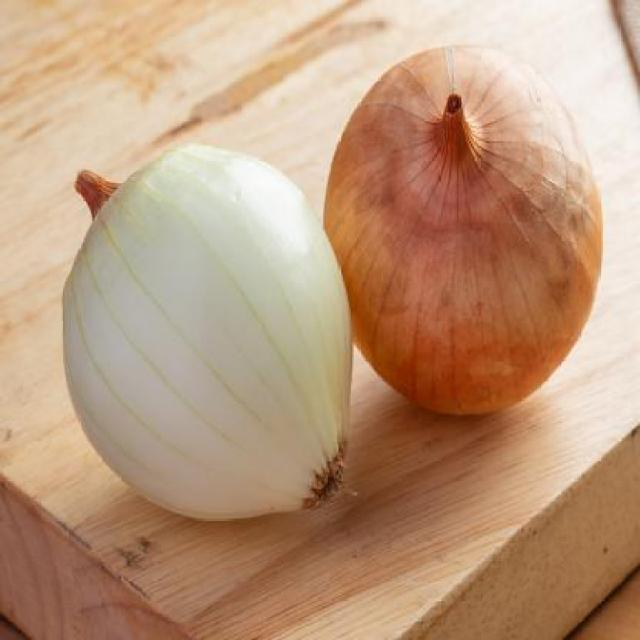Onion: (64, 144, 352, 520), (325, 46, 604, 414)
